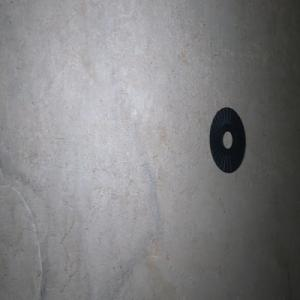Washer: (209, 107, 245, 173)
